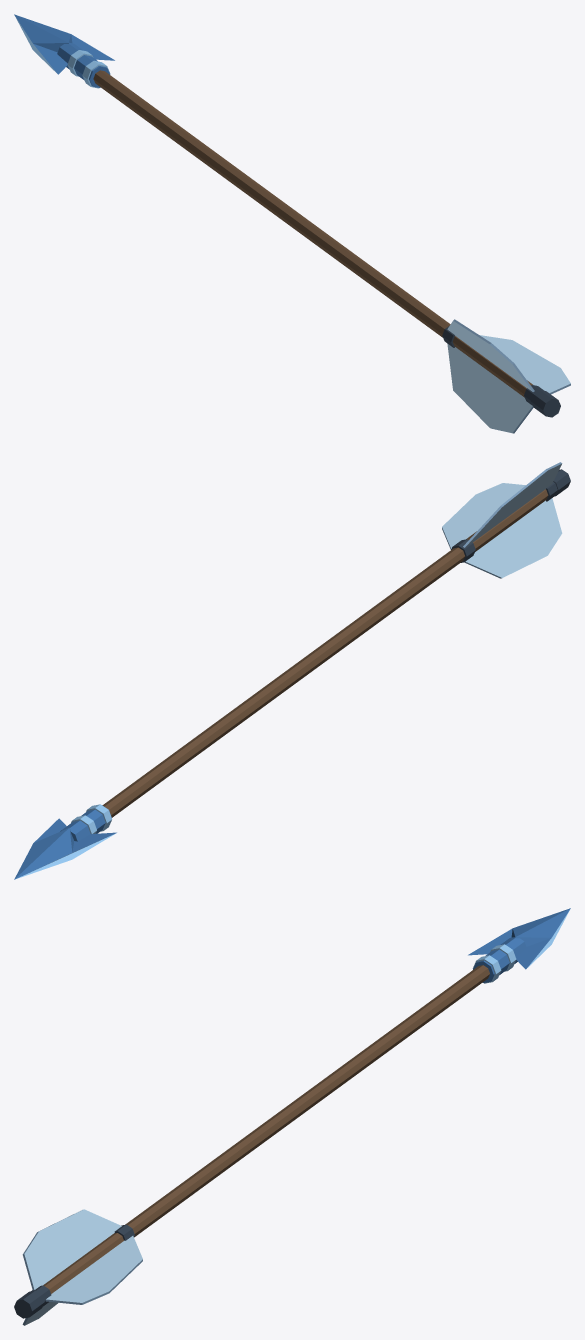
Rendered from Cobalt Arrows-CLhiHYhG.glb.
3 renders of one model, top to bottom at view 1: azimuth 30°, elevation 25°; view 2: azimuth 150°, elevation 25°; view 3: azimuth 330°, elevation 25°, orthographic.
Parts seen in each view (by area): view 1: Cobalt_Arrow; view 2: Cobalt_Arrow; view 3: Cobalt_Arrow.
Boxes of the visible parts, x1=… form: Cobalt_Arrow: x1=14, y1=14, x2=570, y2=433; Cobalt_Arrow: x1=14, y1=462, x2=570, y2=879; Cobalt_Arrow: x1=14, y1=908, x2=570, y2=1325.
Size of the model in its own units: 0.118 by 0.1279 by 1.46.
